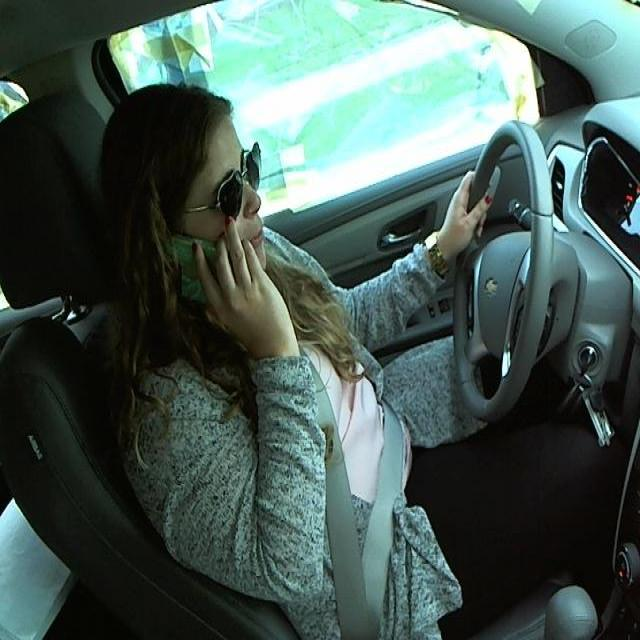using_phone: (86, 49, 302, 387)
